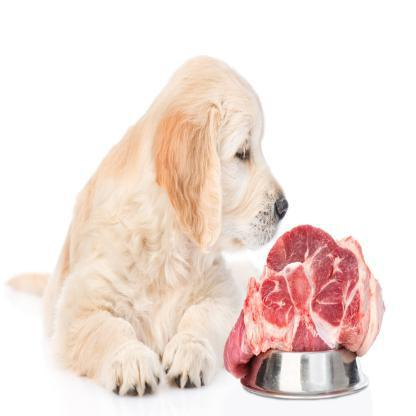pork: (242, 228, 388, 364)
